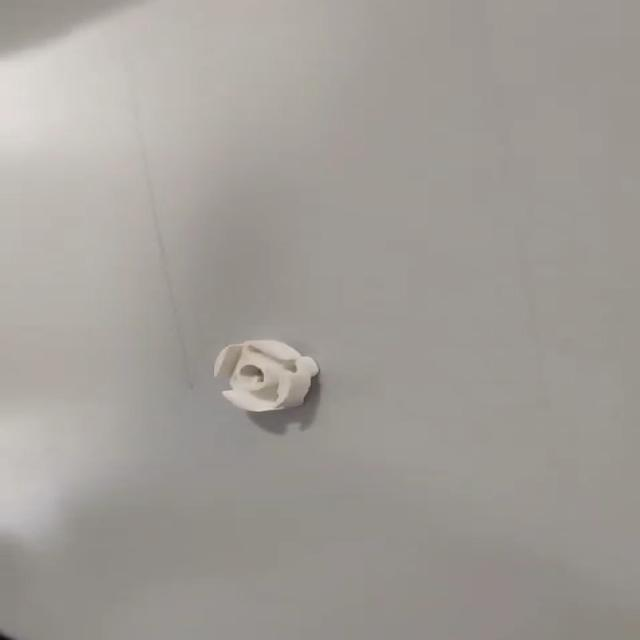S2x2x0: (210, 338, 320, 413)
